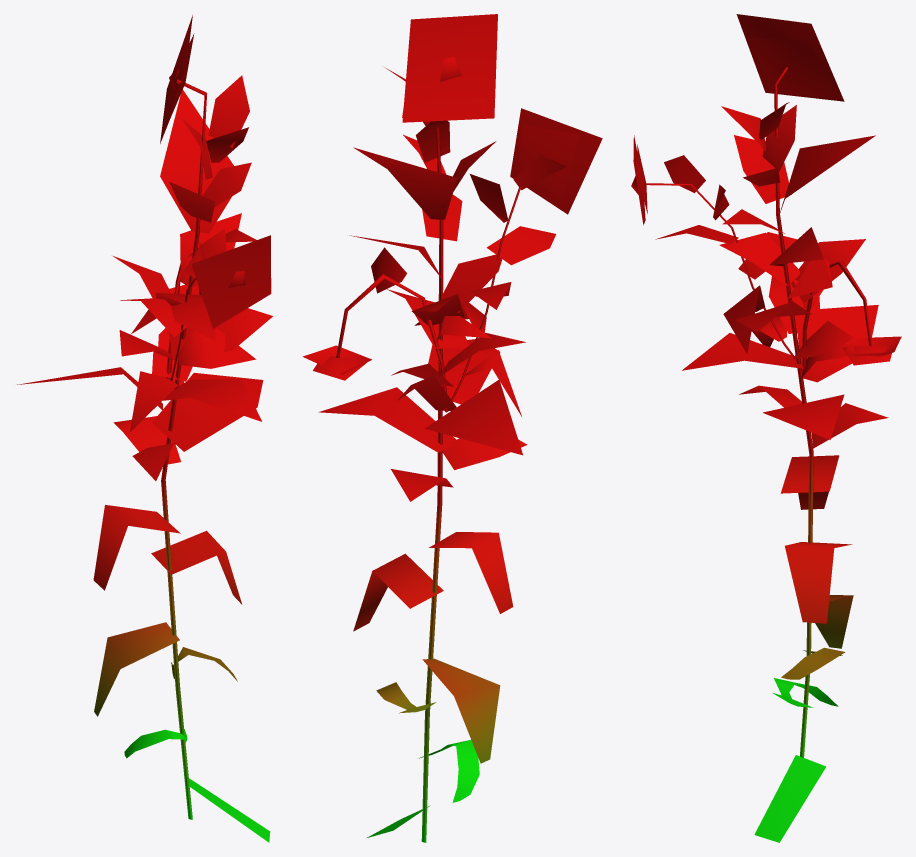
Rendered from Crownbeard_LOD3_Var7_tefoajkr.fbx.
3 views of the same model, side by side, from view 1: azimuth 30°, elevation 25°; view 2: azimuth 150°, elevation 25°; view 3: azimuth 270°, elevation 25° (orthographic). The views are drawn at different scales.
Parts seen in each view (by area): view 1: _c920_Var7_LOD3; view 2: _c920_Var7_LOD3; view 3: _c920_Var7_LOD3.
Part boxes in pixels (x1,y1,x2,y2): _c920_Var7_LOD3: [17, 15, 273, 842]; _c920_Var7_LOD3: [302, 14, 602, 842]; _c920_Var7_LOD3: [631, 14, 901, 842].
Size of the model in its own units: 22.95 by 80.3 by 24.91.
